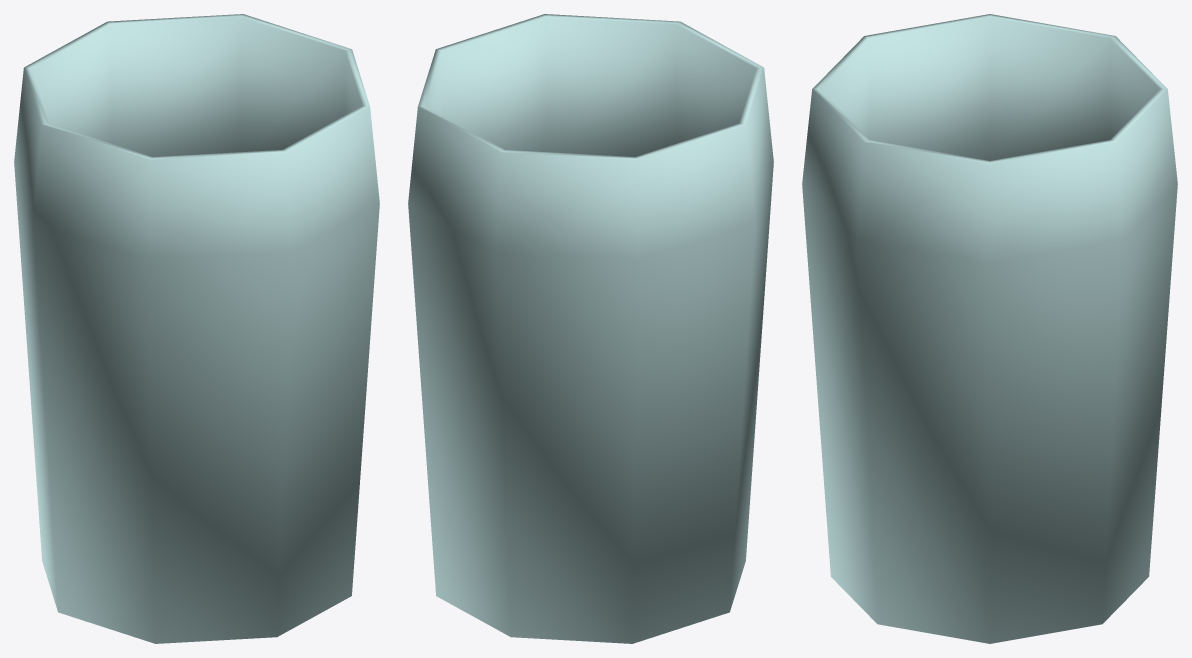
File: pint.glb
3 renders of one model, left to right at view 1: azimuth 30°, elevation 25°; view 2: azimuth 150°, elevation 25°; view 3: azimuth 270°, elevation 25°, orthographic.
Parts seen in each view (by area): view 1: beer; view 2: beer; view 3: beer.
Part boxes in pixels (bbox=[...]): beer: bbox=[14, 14, 379, 643]; beer: bbox=[408, 14, 773, 643]; beer: bbox=[802, 14, 1177, 643].
Size of the model in its own units: 0.2361 by 0.3381 by 0.2361.
Materials: 2 (2 with a texture image).
